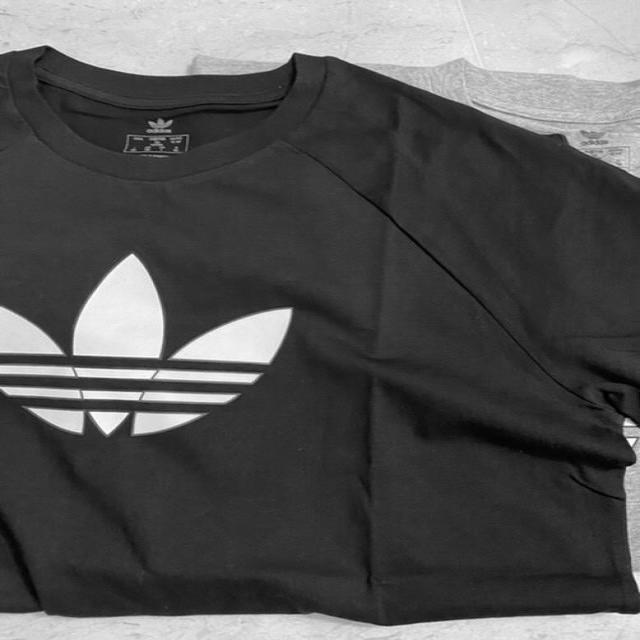Adidas: (0, 238, 310, 474), (127, 103, 190, 147)
